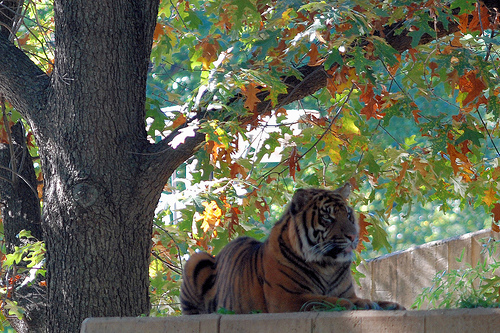Tigre: (180, 185, 402, 324)
